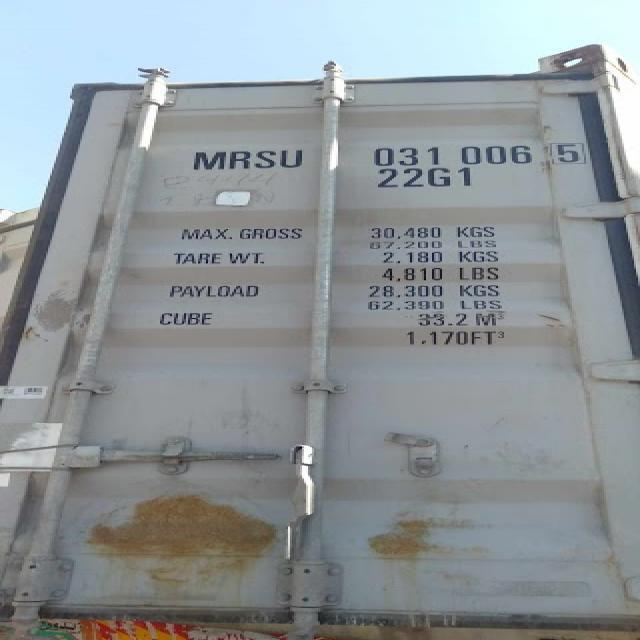ISO: (372, 168, 474, 188)
container_number: (190, 142, 578, 173)
